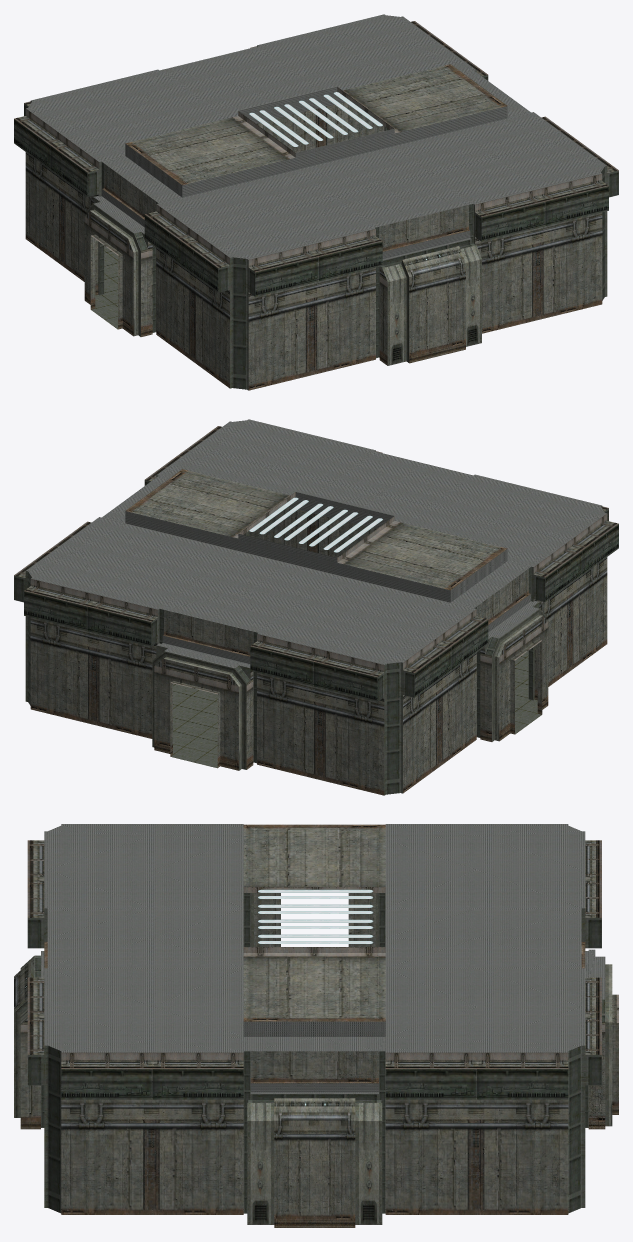
The model's file is poi_all_impl_bunker_crimelord_retreat_s01_r23_premasterroom_mesh_r23.fbx.
The picture shows the model from 3 angles, top to bottom: view 1: azimuth 30°, elevation 25°; view 2: azimuth 150°, elevation 25°; view 3: azimuth 270°, elevation 25°; orthographic projection. The views are drawn at different scales.
Parts seen in each view (by area): view 1: mesh_node; view 2: mesh_node; view 3: mesh_node.
Boxes of the visible parts, x1,y1,x2,y2 form: mesh_node: (14,14,618,390); mesh_node: (14,419,618,795); mesh_node: (14,824,618,1227).
Bounding box in the file's own units: 17.9 × 6 × 17.9.
